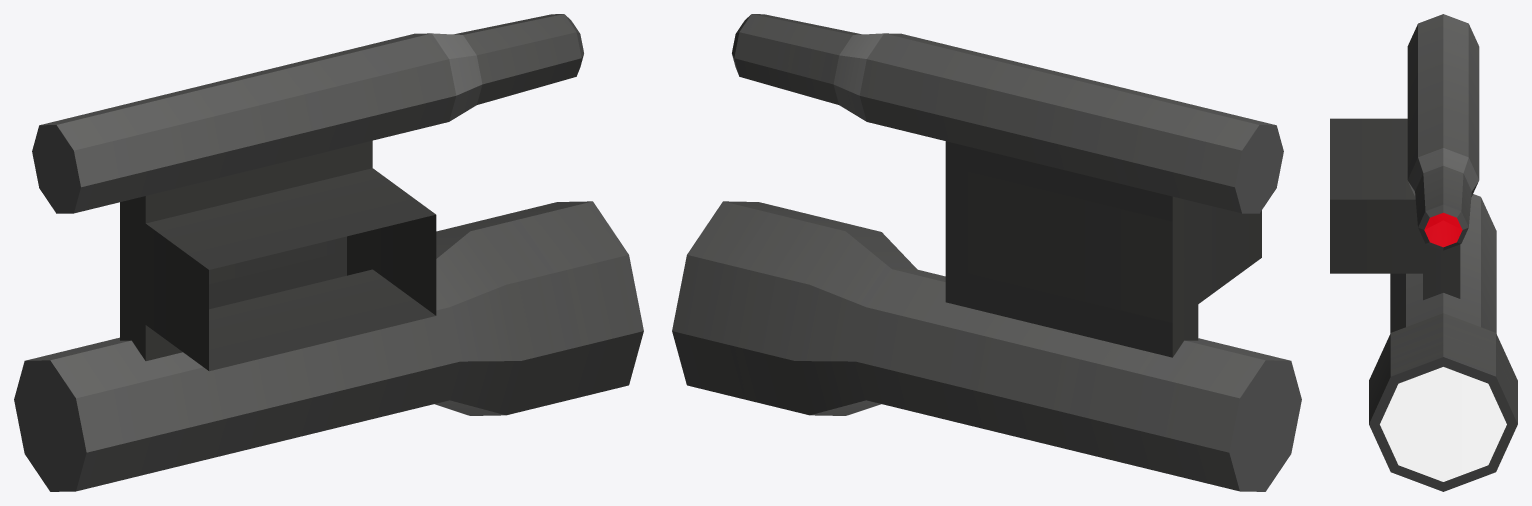
File: LargeLaserCombo_mesh.fbx
The picture shows the model from 3 angles, left to right: view 1: azimuth 30°, elevation 25°; view 2: azimuth 150°, elevation 25°; view 3: azimuth 270°, elevation 25°; orthographic projection. The views are drawn at different scales.
Visible parts, largest first — view 1: LargeLaserCombo_mesh; view 2: LargeLaserCombo_mesh; view 3: LargeLaserCombo_mesh.
Part boxes in pixels (x1,y1,x2,y2): LargeLaserCombo_mesh: (14,14,643,491); LargeLaserCombo_mesh: (672,14,1301,491); LargeLaserCombo_mesh: (1330,14,1517,491).
Bounding box in the file's own units: 9.14 × 6.31 × 3.75.
2 materials, 1 textured.
